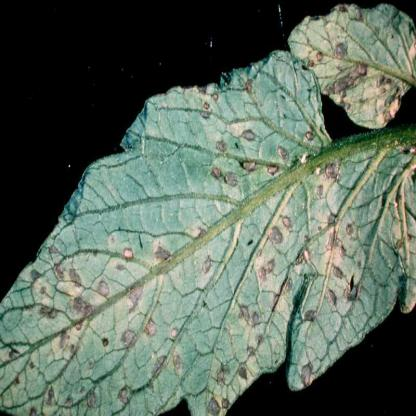tomato septoria leaf spot: (1, 27, 409, 410), (287, 8, 414, 129)
